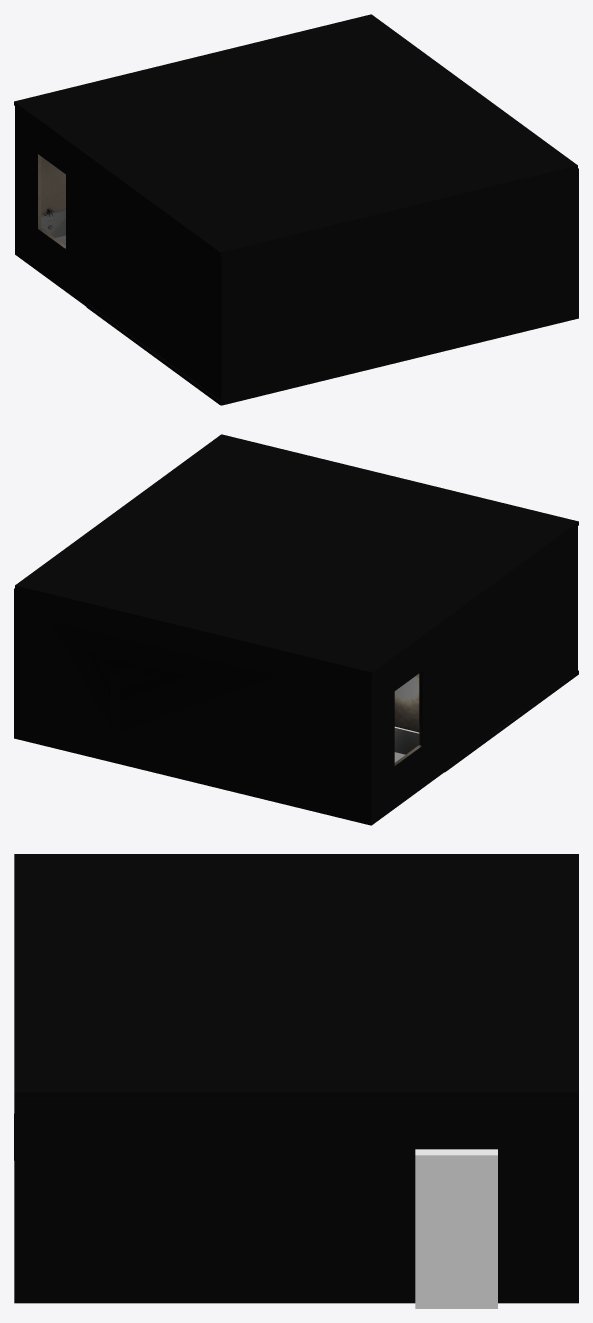
File: room_303_engine.obj
3 views of the same model, one above another, from view 1: azimuth 30°, elevation 25°; view 2: azimuth 150°, elevation 25°; view 3: azimuth 270°, elevation 25° (orthographic). The views are drawn at different scales.
Visible parts, largest first — view 1: Rectangle025, celling_303, Rectangle026, Bathroom_Bathtub001; view 2: Rectangle025, celling_303, Rectangle026, Bathroom_Bathtub001; view 3: celling_303, Rectangle025, PH_DOOR_303_9R.
Boxes of the visible parts, bbox=[...] form: Rectangle025: bbox=[15, 106, 578, 405]; celling_303: bbox=[14, 14, 577, 256]; Rectangle026: bbox=[86, 303, 515, 405]; Bathroom_Bathtub001: bbox=[41, 208, 65, 245]; Rectangle025: bbox=[14, 526, 577, 825]; celling_303: bbox=[15, 434, 578, 676]; Rectangle026: bbox=[15, 670, 578, 772]; Bathroom_Bathtub001: bbox=[394, 726, 419, 762]; celling_303: bbox=[14, 854, 578, 1097]; Rectangle025: bbox=[14, 1098, 578, 1303]; PH_DOOR_303_9R: bbox=[415, 1149, 497, 1308].
Bounding box in the file's own units: 103 × 41 × 100.
